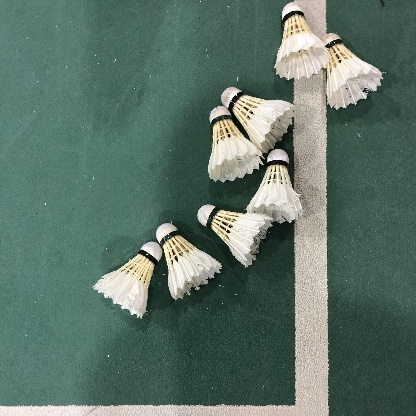ball_single: (93, 241, 163, 319), (156, 223, 222, 300), (221, 87, 295, 153), (197, 204, 273, 267), (322, 33, 383, 109), (275, 2, 330, 80), (208, 106, 263, 182), (247, 149, 302, 224)
